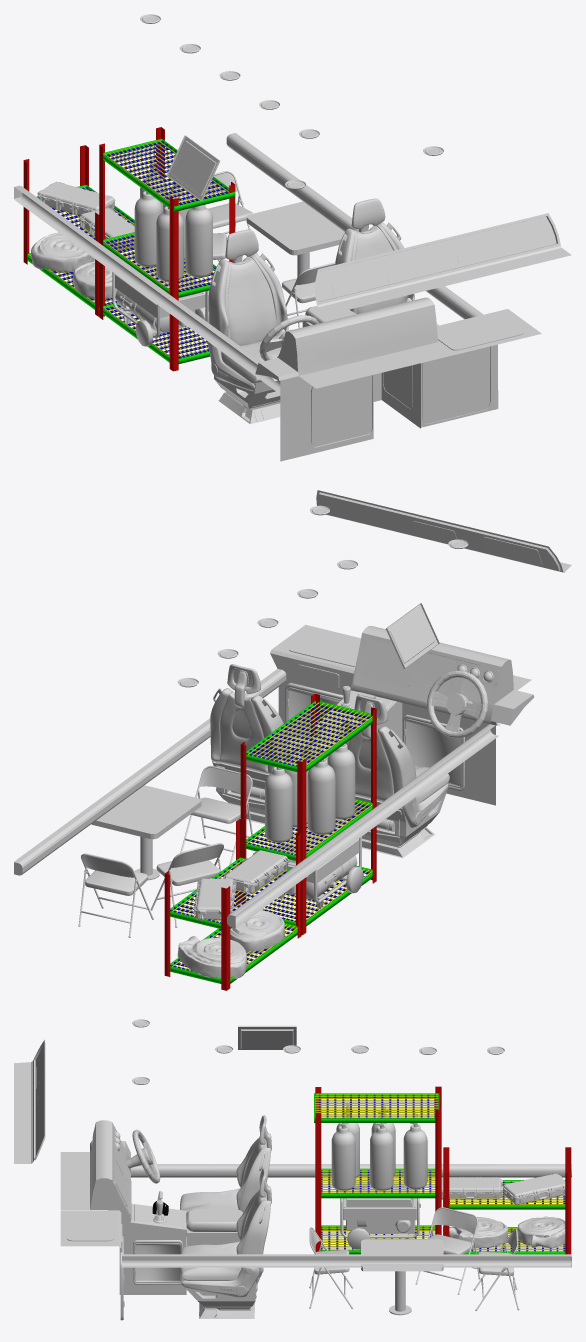
File: 13sites02.fbx
The picture shows the model from 3 angles, top to bottom: view 1: azimuth 30°, elevation 25°; view 2: azimuth 150°, elevation 25°; view 3: azimuth 270°, elevation 25°; orthographic projection. The views are drawn at different scales.
Parts seen in each view (by area): view 1: has_glass; view 2: has_glass; view 3: has_glass.
Part boxes in pixels (x1,y1,x2,y2): has_glass: (14,14,571,461); has_glass: (14,490,571,990); has_glass: (14,1019,571,1320).
Bounding box in the file's own units: 101 × 102 × 230.
